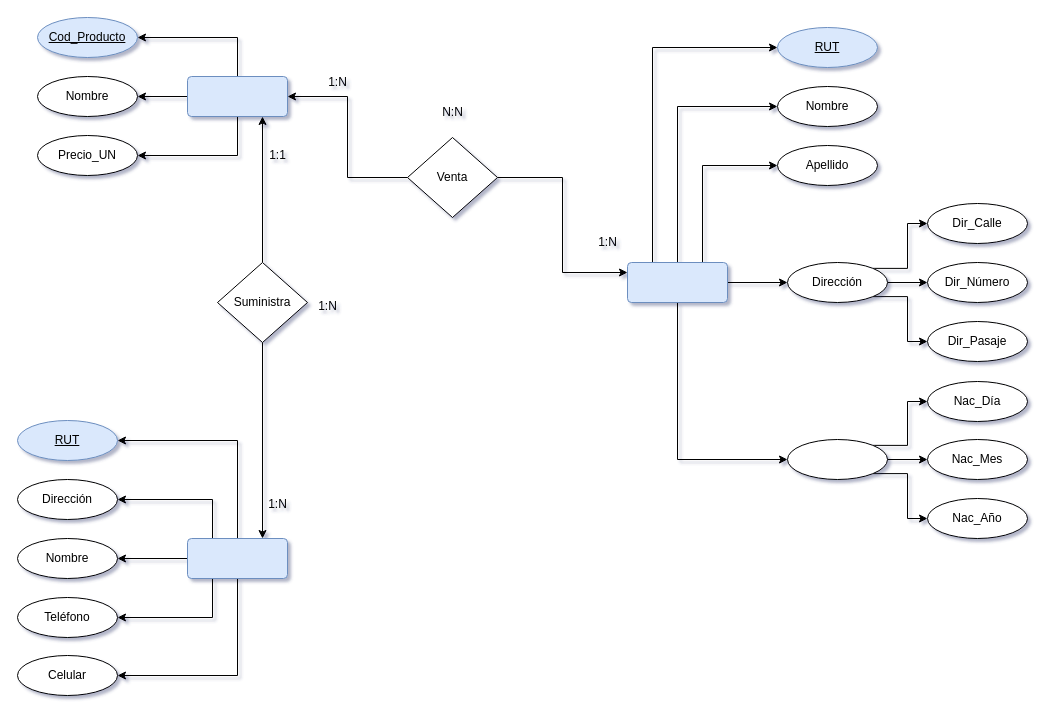
This 1051x719 diagram has some shape labels left out. Here are the shapes that lost their labels. From the top down, the centre of each, then its label:
At [237,96]: "Productos".
At [677,282]: "Clientes".
At [837,459]: "F_Nacimiento".
At [237,558]: "Proveedor".
